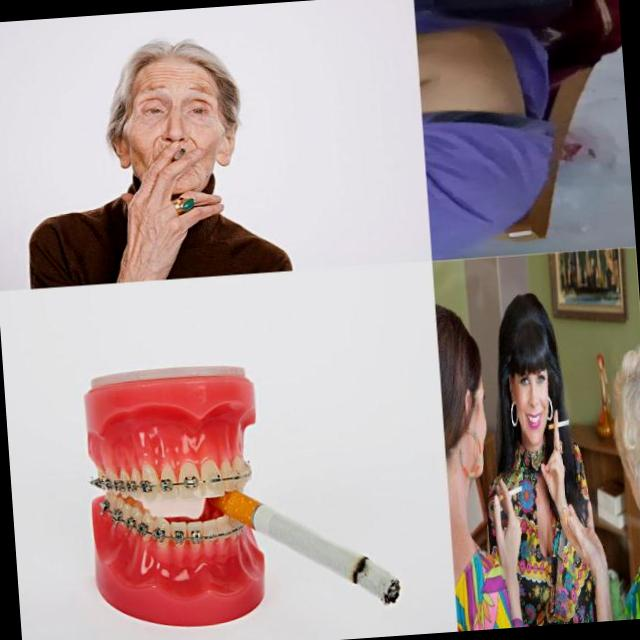cigarette: (206, 475, 402, 618), (170, 138, 194, 164), (498, 484, 522, 502), (548, 418, 570, 430)
